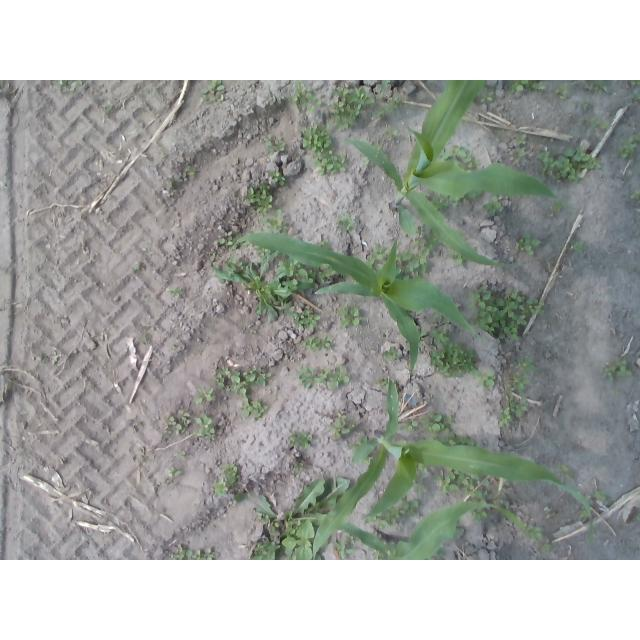Maize: (311, 372, 594, 561), (341, 81, 559, 267), (234, 230, 483, 383), (338, 502, 526, 559)
Weeds: (207, 253, 297, 319), (469, 285, 544, 339), (251, 476, 326, 522), (234, 520, 314, 560), (535, 145, 601, 180), (330, 87, 375, 132), (215, 367, 274, 397), (499, 372, 529, 428), (430, 343, 474, 378), (297, 364, 351, 389), (301, 121, 332, 152), (442, 146, 479, 170), (449, 469, 480, 497), (244, 186, 272, 217), (603, 357, 634, 383), (403, 249, 429, 280), (313, 153, 348, 176), (172, 544, 219, 560), (239, 396, 269, 421), (421, 411, 452, 433), (164, 410, 191, 435), (327, 411, 349, 438), (514, 234, 538, 257), (375, 98, 401, 119), (264, 210, 287, 233), (442, 433, 478, 447), (202, 80, 227, 100), (293, 311, 319, 330), (302, 335, 332, 351), (434, 474, 459, 493), (510, 80, 546, 93), (194, 415, 214, 438), (367, 243, 386, 267), (473, 368, 495, 388), (288, 431, 312, 449), (338, 307, 359, 327), (417, 227, 435, 248), (215, 478, 237, 494), (586, 116, 610, 130), (303, 93, 321, 111), (484, 196, 501, 215), (195, 386, 215, 402), (54, 81, 83, 92), (289, 82, 304, 103), (619, 143, 637, 160), (399, 500, 418, 516), (519, 356, 537, 372), (339, 214, 357, 230), (218, 230, 235, 246), (297, 269, 315, 284), (139, 325, 153, 344), (129, 415, 143, 434), (558, 464, 574, 480), (231, 235, 250, 248), (433, 329, 450, 343), (166, 177, 183, 191), (269, 141, 286, 154), (373, 521, 388, 535), (387, 509, 401, 524), (399, 421, 417, 432), (224, 463, 238, 477), (234, 491, 249, 504), (167, 286, 182, 299), (270, 172, 285, 185), (318, 270, 334, 282), (383, 346, 397, 359), (556, 83, 568, 97), (512, 148, 524, 162), (184, 165, 197, 177), (595, 490, 608, 502), (167, 467, 181, 478), (449, 255, 463, 266), (530, 526, 542, 538), (480, 91, 493, 102), (384, 127, 397, 138), (295, 462, 305, 475), (579, 509, 590, 520), (102, 101, 114, 111), (630, 189, 640, 200), (515, 133, 525, 144), (594, 84, 606, 93), (146, 244, 155, 256), (257, 248, 268, 257), (544, 506, 552, 518), (472, 512, 485, 519), (553, 201, 562, 211), (380, 376, 388, 387), (583, 96, 589, 110), (572, 242, 584, 249), (630, 135, 640, 143), (263, 136, 273, 144), (139, 449, 146, 460), (175, 451, 186, 458), (134, 261, 142, 270), (542, 544, 550, 552), (614, 388, 620, 397), (634, 94, 640, 103), (435, 311, 440, 321), (159, 148, 165, 156), (631, 80, 640, 85), (145, 297, 152, 303)
